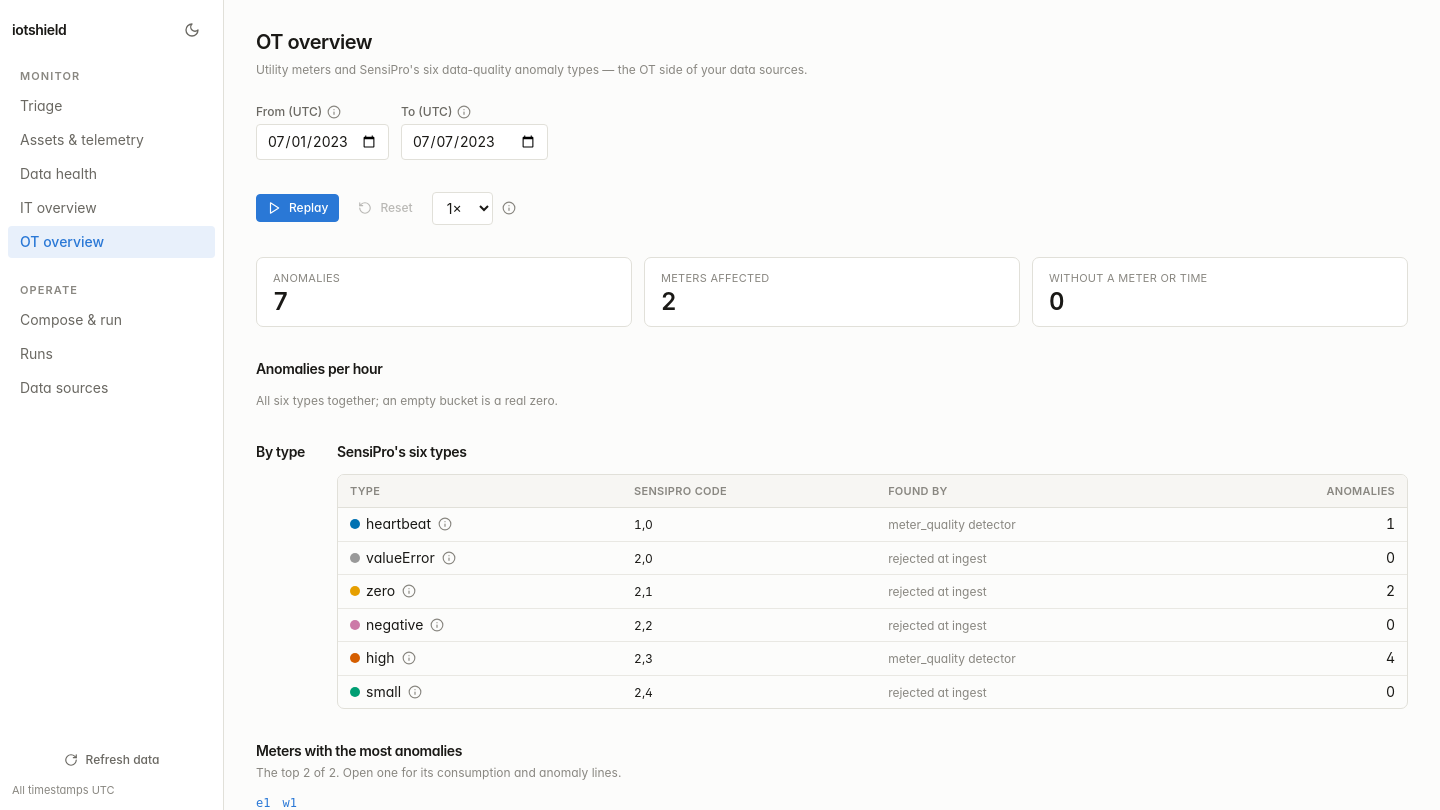
Test: OT overview › opens a meter on the same range, asking for that meter alone
Click the link "w1" at (290, 802), box [282,794,297,809]
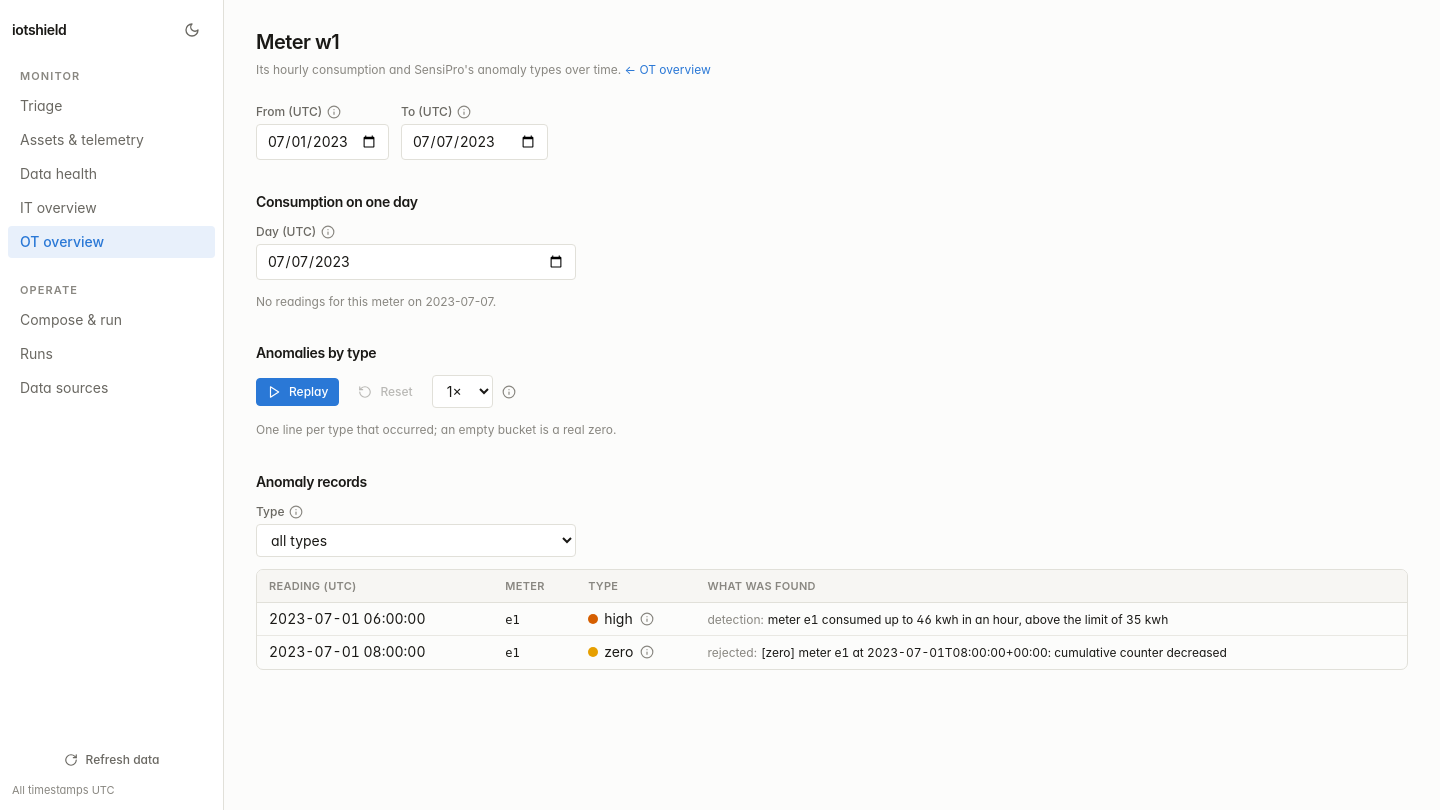
Expected: the heading "Meter w1" is shown, [256,30,339,54]
Expected: the text "No readings for this meter on 2023-07-07." is shown, [256,294,496,308]
